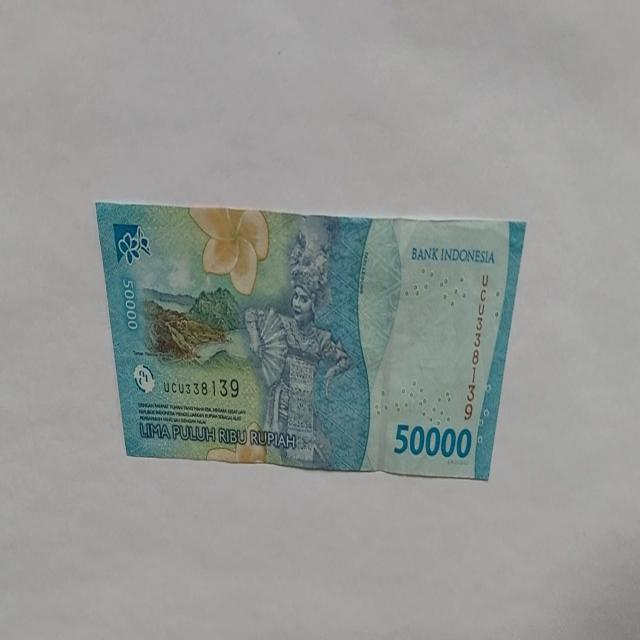lima puluh ribu rupiah: (94, 201, 526, 481)
